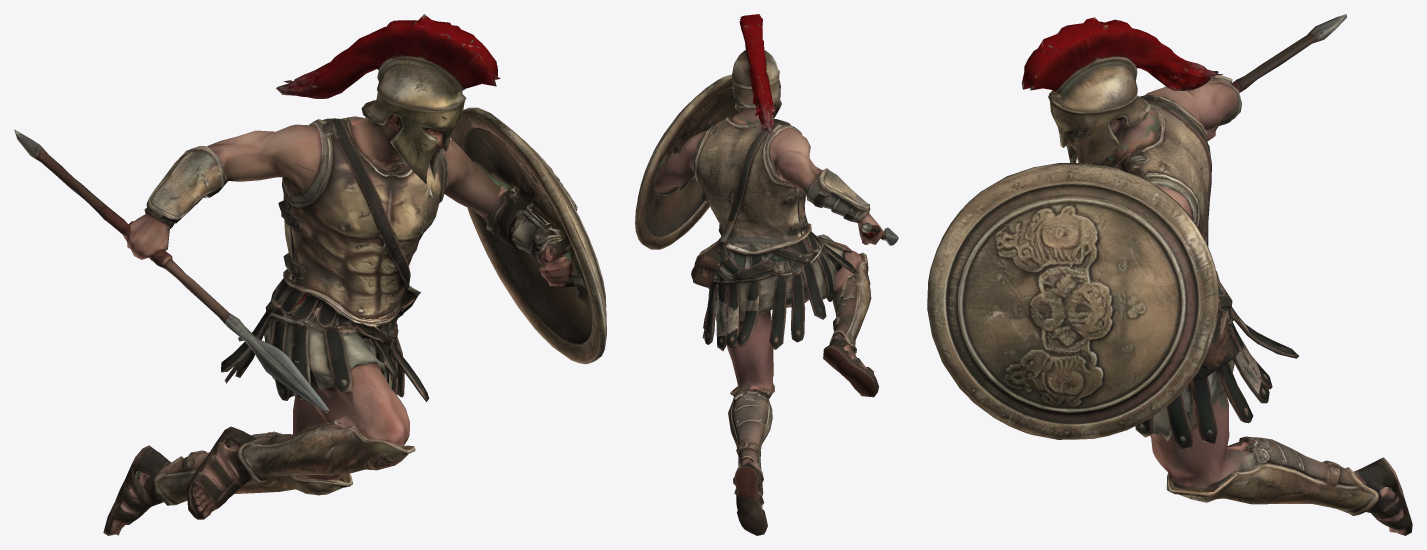
The model's file is spartan.glb.
3 renders of one model, left to right at view 1: azimuth 30°, elevation 25°; view 2: azimuth 150°, elevation 25°; view 3: azimuth 270°, elevation 25°, orthographic. The views are drawn at different scales.
Visible parts, largest first — view 1: Mesh1.0; view 2: Mesh1.0; view 3: Mesh1.0.
Boxes of the visible parts, x1,y1,x2,y2 form: Mesh1.0: (14, 14, 606, 535); Mesh1.0: (635, 14, 898, 535); Mesh1.0: (927, 14, 1412, 535).
Size of the model in its own units: 1.45 by 1.9 by 1.42.
1 material, 1 textured.
